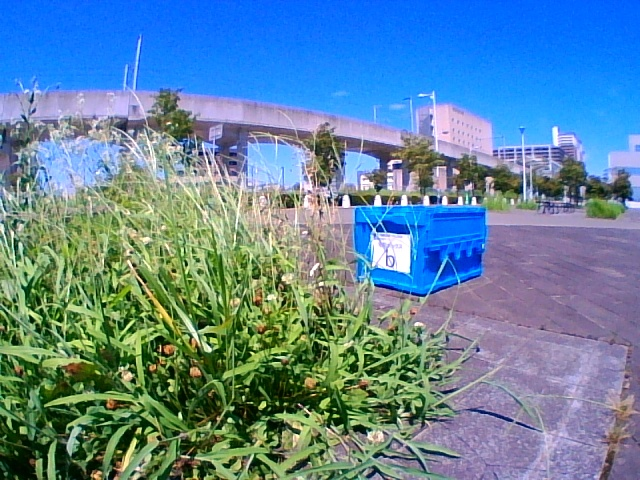blue_box: (358, 206, 482, 277)
tag_b: (373, 235, 409, 268)
